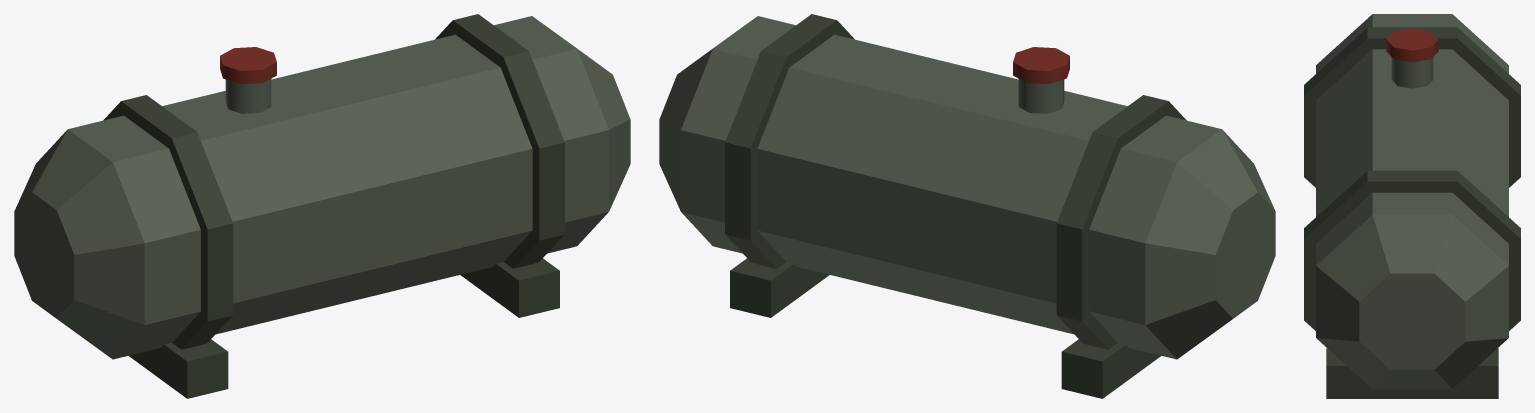
File: ko600_fluid.obj
3 views of the same model, side by side, from view 1: azimuth 30°, elevation 25°; view 2: azimuth 150°, elevation 25°; view 3: azimuth 270°, elevation 25° (orthographic). The views are drawn at different scales.
Parts seen in each view (by area): view 1: ko600_fluid; view 2: ko600_fluid; view 3: ko600_fluid.
Boxes of the visible parts, <box> form: ko600_fluid: <box>14,14,630,398</box>; ko600_fluid: <box>659,14,1275,398</box>; ko600_fluid: <box>1304,14,1520,398</box>.
Bounding box in the file's own units: 2.18 × 1.04 × 0.8315.
